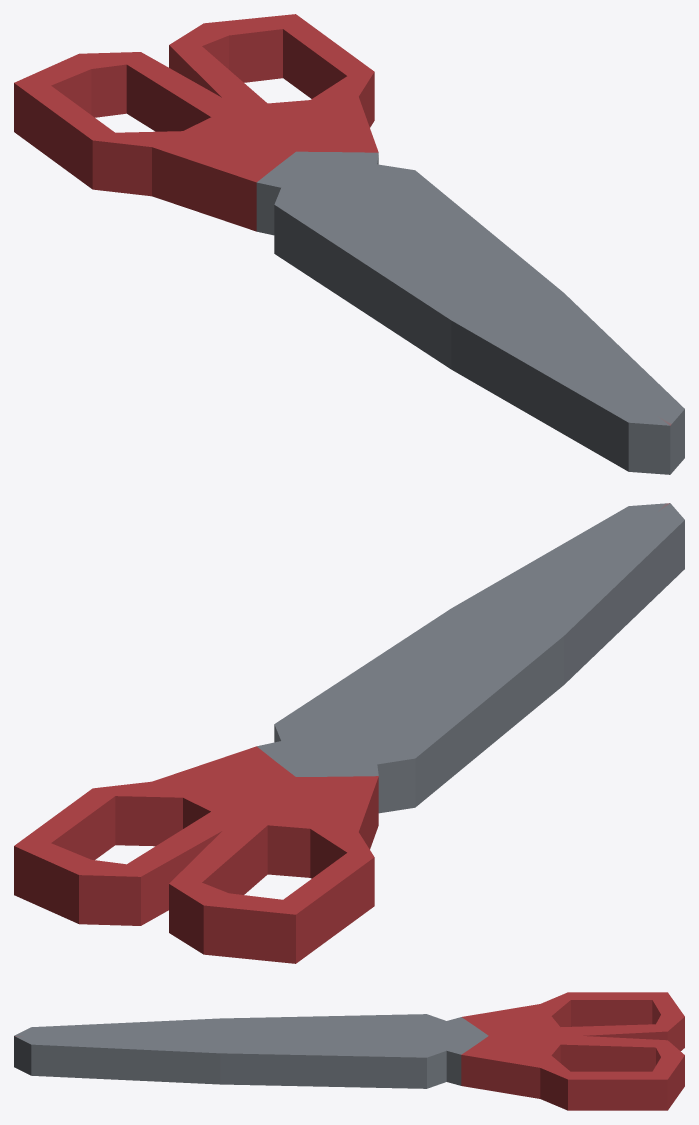
The model's file is Starmall Scissors.fbx.
3 views of the same model, one above another, from view 1: azimuth 30°, elevation 25°; view 2: azimuth 150°, elevation 25°; view 3: azimuth 270°, elevation 25° (orthographic). The views are drawn at different scales.
Visible parts, largest first — view 1: Cube.001; view 2: Cube.001; view 3: Cube.001.
Part boxes in pixels (left/top/right/bottom): Cube.001: left=14, top=14, right=684, bottom=474; Cube.001: left=14, top=503, right=684, bottom=963; Cube.001: left=14, top=992, right=684, bottom=1110.
Size of the model in its own units: 0.06 by 0.01 by 0.195.
Materials: 1 (1 with a texture image).
